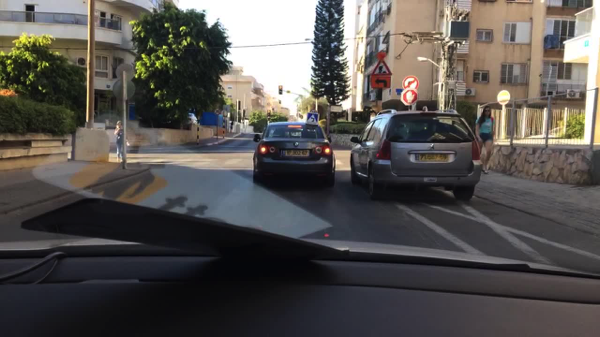car: (348, 107, 481, 202), (252, 122, 334, 187)
person: (474, 107, 494, 173), (114, 121, 130, 164), (229, 121, 234, 135)
traffic light: (278, 85, 283, 95), (236, 101, 240, 111), (242, 109, 245, 121), (267, 110, 270, 119)
traffic sign: (370, 52, 390, 76), (112, 81, 135, 101), (115, 64, 134, 80), (369, 76, 390, 89), (400, 90, 418, 105), (403, 76, 418, 88), (306, 114, 317, 125), (214, 108, 220, 116), (221, 111, 227, 118), (223, 105, 228, 112), (244, 120, 248, 126), (309, 110, 316, 113)
